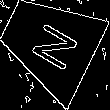N_NW: (20, 13, 78, 72)
